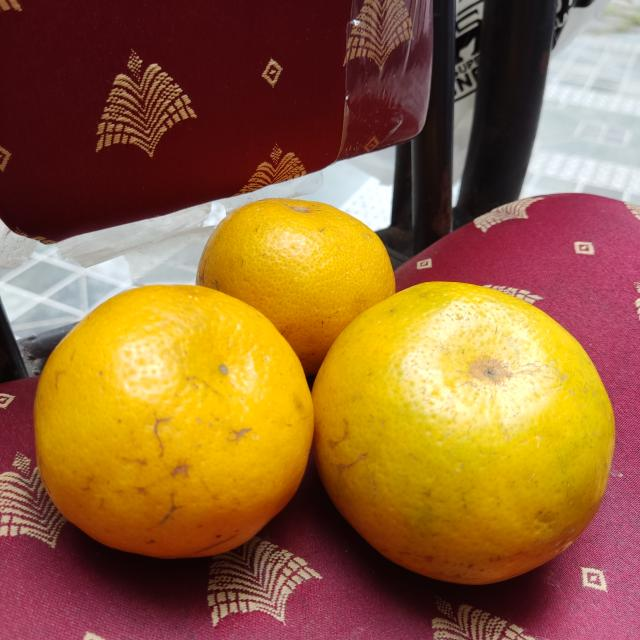orange: (314, 276, 616, 584), (39, 285, 311, 559), (195, 198, 394, 364)
